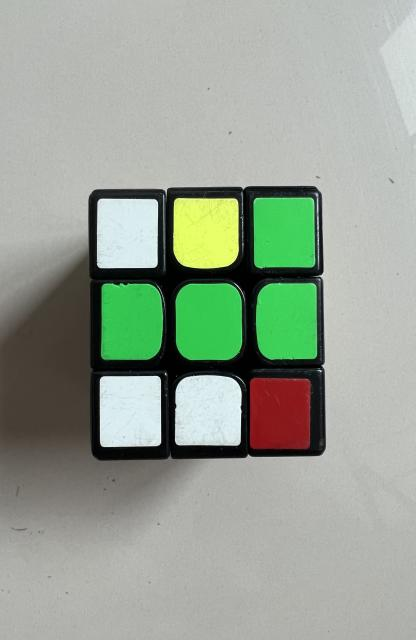Green: (176, 282, 243, 360), (101, 284, 164, 360), (256, 284, 317, 360), (254, 198, 315, 269)
Red: (250, 378, 311, 450)
White: (174, 375, 242, 446), (100, 376, 161, 448), (96, 199, 158, 269)
Yellow: (173, 198, 239, 269)
